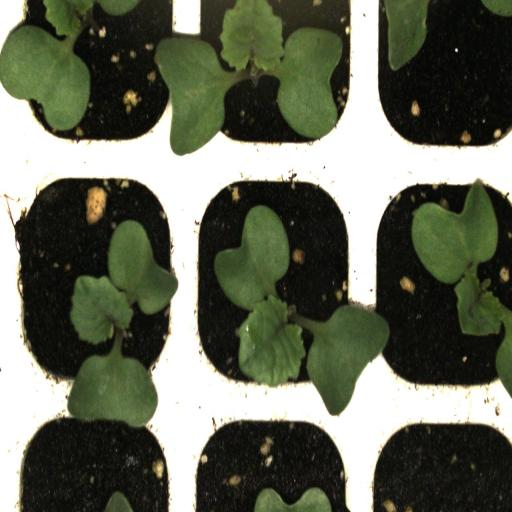Folha: (70, 219, 177, 345), (67, 345, 157, 429), (384, 0, 429, 71), (254, 487, 332, 512)
Germinacao: (2, 156, 187, 400), (187, 158, 362, 402), (363, 155, 512, 402), (1, 0, 186, 161), (184, 0, 363, 154)
